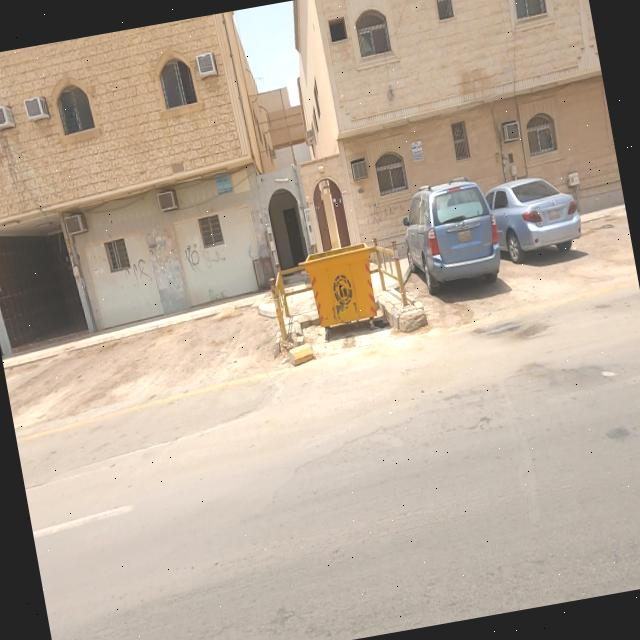Graffiti: (367, 200, 408, 226), (123, 259, 154, 289), (200, 248, 229, 271), (184, 244, 203, 276)
